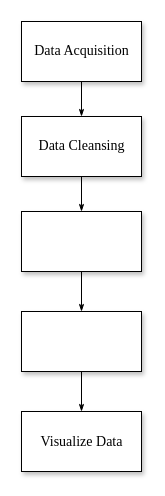
Image size: 165x496. Some labels were removed from this diagram. The shapes that lost their labels are listed below. From the top down, each one's centre as x and y in pixels, then its label:
the point at 82,242: Data Training
the point at 82,342: Predict Data
